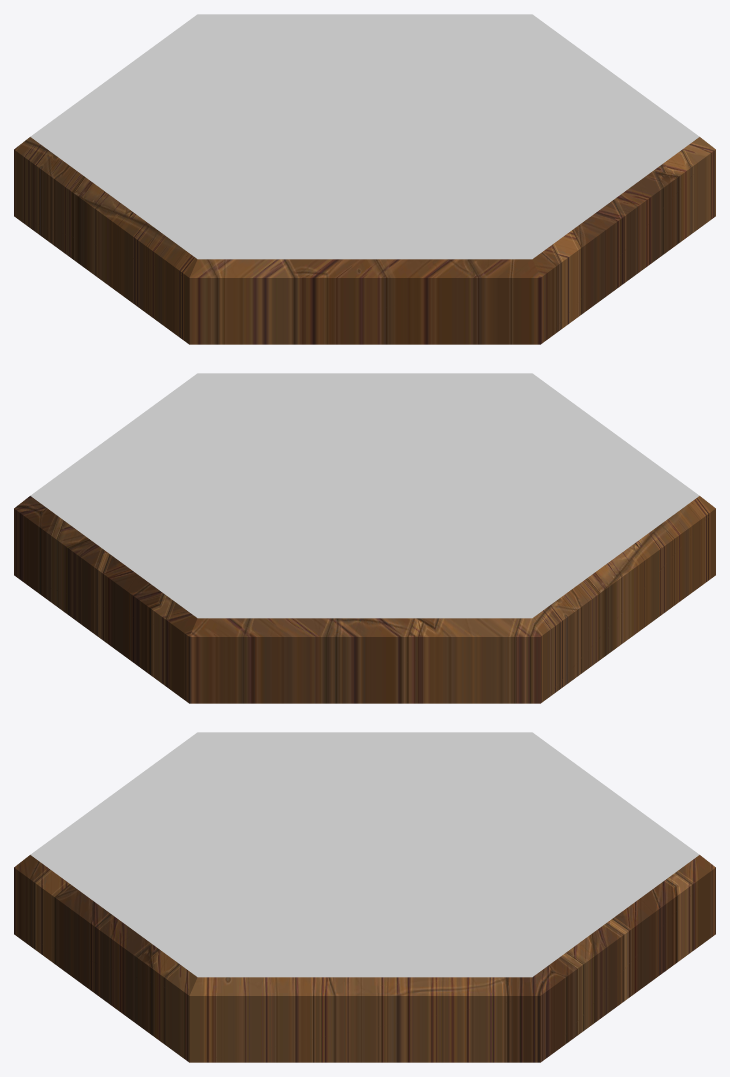
The model's file is void.glb.
3 renders of one model, top to bottom at view 1: azimuth 30°, elevation 25°; view 2: azimuth 150°, elevation 25°; view 3: azimuth 270°, elevation 25°, orthographic.
Visible parts, largest first — view 1: Circle; view 2: Circle; view 3: Circle.
Boxes of the visible parts, x1,y1,x2,y2 form: Circle: (14, 14, 715, 344); Circle: (14, 373, 715, 703); Circle: (14, 732, 715, 1062).
Bounding box in the file's own units: 1.73 × 0.25 × 2.
2 materials, 1 textured.
